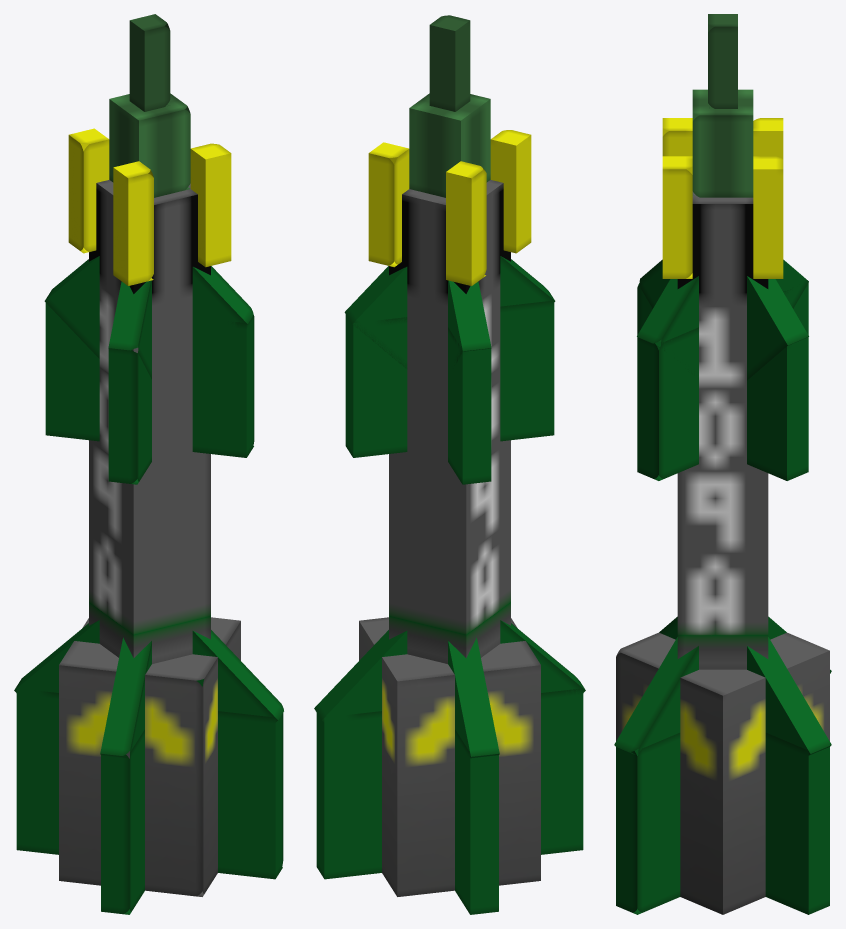
The model's file is missile_attractive.obj.
The picture shows the model from 3 angles, left to right: view 1: azimuth 30°, elevation 25°; view 2: azimuth 150°, elevation 25°; view 3: azimuth 270°, elevation 25°; orthographic projection.
Parts seen in each view (by area): view 1: ShapeA, ShapeB, ShapeD, ShapeH, ShapeC, ShapeF, ShapeO, ShapeG, ShapeI, ShapeK, ShapeN, ShapeL (+3 smaller); view 2: ShapeA, ShapeB, ShapeC, ShapeG, ShapeD, ShapeO, ShapeH, ShapeE, ShapeJ, ShapeL, ShapeM, ShapeK (+3 smaller); view 3: ShapeA, ShapeB, ShapeD, ShapeC, ShapeH, ShapeG, ShapeO, ShapeE, ShapeI, ShapeJ, ShapeN, ShapeM (+4 smaller).
Part boxes in pixels (x1,y1,x2,y2): ShapeA: [89, 180, 210, 663]; ShapeB: [59, 617, 240, 896]; ShapeD: [16, 688, 283, 879]; ShapeH: [45, 303, 254, 457]; ShapeC: [101, 729, 144, 914]; ShapeF: [44, 256, 253, 369]; ShapeO: [109, 93, 190, 197]; ShapeG: [108, 345, 151, 484]; ShapeI: [14, 620, 283, 722]; ShapeK: [113, 161, 153, 285]; ShapeN: [190, 143, 231, 267]; ShapeL: [68, 128, 109, 253]; ShapeA: [389, 180, 510, 663]; ShapeB: [359, 617, 540, 896]; ShapeC: [316, 688, 583, 879]; ShapeG: [345, 300, 554, 457]; ShapeD: [455, 729, 498, 914]; ShapeO: [409, 93, 490, 197]; ShapeH: [448, 327, 491, 484]; ShapeE: [344, 256, 555, 368]; ShapeJ: [314, 620, 585, 722]; ShapeL: [446, 161, 486, 285]; ShapeM: [368, 142, 409, 267]; ShapeK: [490, 130, 531, 253]; ShapeA: [677, 191, 768, 669]; ShapeB: [616, 632, 829, 914]; ShapeD: [616, 733, 680, 914]; ShapeC: [765, 733, 829, 914]; ShapeH: [637, 283, 808, 480]; ShapeG: [637, 283, 808, 480]; ShapeO: [692, 89, 753, 197]; ShapeE: [639, 259, 808, 380]; ShapeI: [614, 616, 831, 756]; ShapeJ: [659, 616, 831, 755]; ShapeN: [662, 156, 692, 278]; ShapeM: [753, 156, 783, 278].
Bounding box in the file's own units: 0.9009 × 3.88 × 0.9009.
